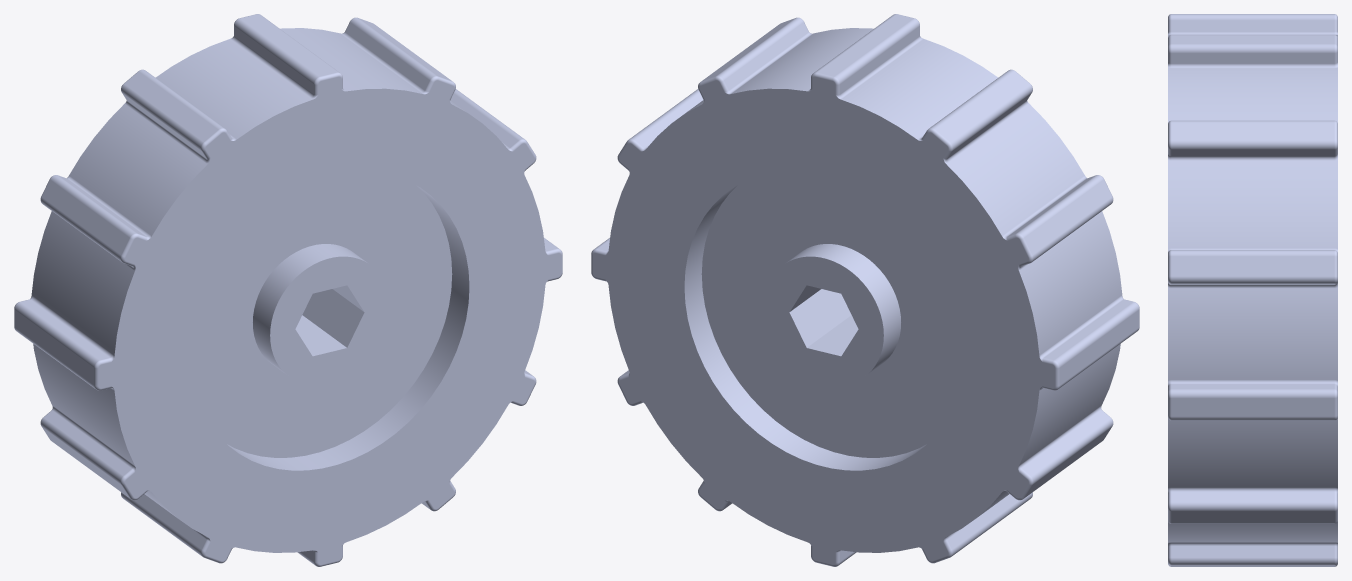
File: _2025_Drivetrain_3d_Print_Drive_Wheel_R2.obj
3 views of the same model, side by side, from view 1: azimuth 30°, elevation 25°; view 2: azimuth 150°, elevation 25°; view 3: azimuth 270°, elevation 25° (orthographic). The views are drawn at different scales.
Visible parts, largest first — view 1: mesh17731, mesh17459, mesh17666, mesh17461, mesh17688, mesh17644, mesh17460, mesh17710, mesh17622, mesh17458, mesh17463, mesh17654 (+16 smaller); view 2: mesh17472, mesh17470, mesh17666, mesh17468, mesh17688, mesh17644, mesh17471, mesh17710, mesh17622, mesh17469, mesh17463, mesh17654 (+16 smaller); view 3: mesh17578, mesh17600, mesh17556, mesh17622, mesh17566, mesh17534, mesh17544, mesh17588, mesh17504, mesh17522, mesh17642, mesh17620 (+24 smaller).
Part boxes in pixels (left/top/right/bottom): mesh17731: left=99, top=77, right=560, bottom=564; mesh17459: left=190, top=171, right=452, bottom=457; mesh17666: left=69, top=103, right=207, bottom=236; mesh17461: left=270, top=256, right=389, bottom=384; mesh17688: left=31, top=211, right=134, bottom=355; mesh17644: left=155, top=38, right=312, bottom=139; mesh17460: left=227, top=185, right=469, bottom=470; mesh17710: left=33, top=344, right=134, bottom=465; mesh17622: left=280, top=28, right=422, bottom=93; mesh17458: left=253, top=244, right=367, bottom=373; mesh17463: left=302, top=289, right=364, bottom=347; mesh17654: left=42, top=180, right=129, bottom=254; mesh17472: left=593, top=77, right=1054, bottom=564; mesh17470: left=701, top=171, right=963, bottom=457; mesh17666: left=946, top=103, right=1084, bottom=236; mesh17468: left=764, top=256, right=883, bottom=384; mesh17688: left=1019, top=211, right=1122, bottom=355; mesh17644: left=841, top=38, right=998, bottom=139; mesh17471: left=684, top=185, right=926, bottom=470; mesh17710: left=1019, top=344, right=1120, bottom=465; mesh17622: left=731, top=28, right=873, bottom=93; mesh17469: left=786, top=244, right=900, bottom=373; mesh17463: left=789, top=289, right=851, bottom=347; mesh17654: left=1024, top=180, right=1111, bottom=254; mesh17578: left=1168, top=287, right=1337, bottom=380; mesh17600: left=1168, top=160, right=1337, bottom=248; mesh17556: left=1168, top=418, right=1337, bottom=487; mesh17622: left=1168, top=68, right=1337, bottom=122; mesh17566: left=1171, top=256, right=1334, bottom=276; mesh17534: left=1168, top=521, right=1337, bottom=542; mesh17544: left=1171, top=398, right=1334, bottom=416; mesh17588: left=1171, top=123, right=1334, bottom=139; mesh17504: left=1171, top=546, right=1334, bottom=557; mesh17522: left=1171, top=511, right=1334, bottom=522; mesh17642: left=1171, top=20, right=1334, bottom=31; mesh17620: left=1171, top=53, right=1334, bottom=63.
Size of the model in its own units: 0.0993 by 0.0993 by 0.0305.
